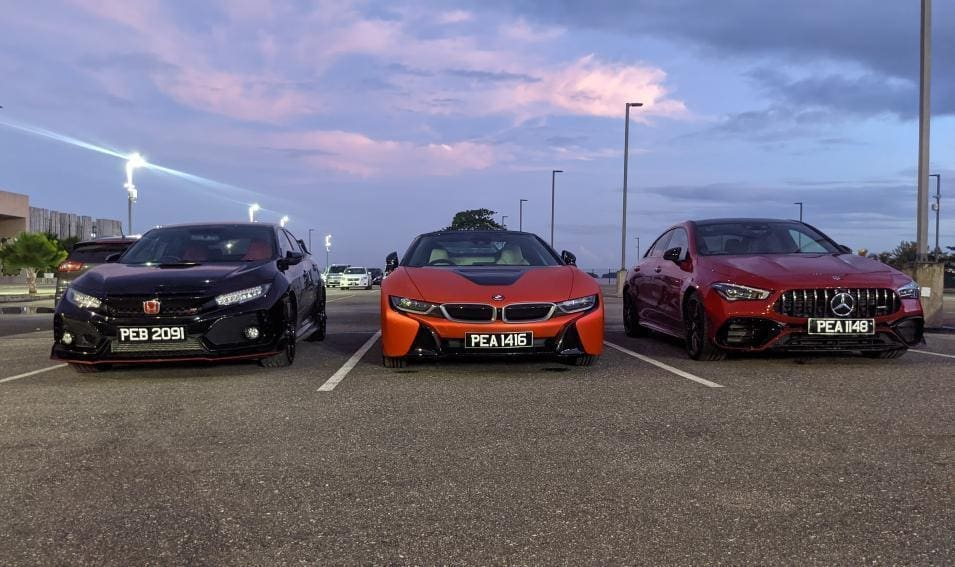License-Plate: (116, 327, 184, 342), (465, 333, 531, 347), (808, 319, 872, 333)
